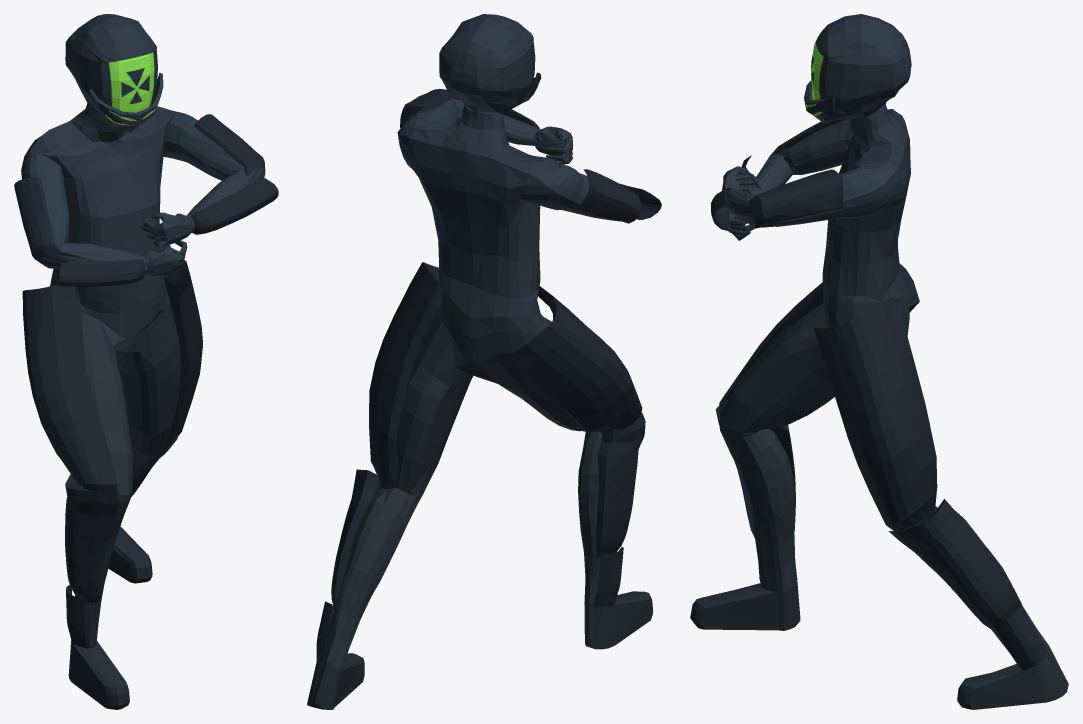
Rendered from Bastion_Hit_Recover_000016.obj.
3 renders of one model, left to right at view 1: azimuth 30°, elevation 25°; view 2: azimuth 150°, elevation 25°; view 3: azimuth 270°, elevation 25°, orthographic. The views are drawn at different scales.
Visible parts, largest first — view 1: Cube.002; view 2: Cube.002; view 3: Cube.002.
Part boxes in pixels (<box>): Cube.002: <box>14,14,278,709</box>; Cube.002: <box>307,14,661,709</box>; Cube.002: <box>690,14,1068,709</box>.
Size of the model in its own units: 1.34 by 3.61 by 1.91.
